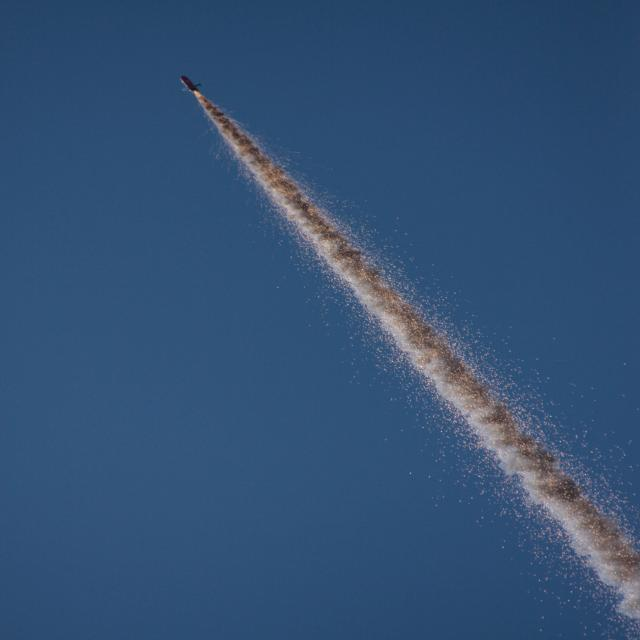Rocket: (180, 75, 202, 94)
